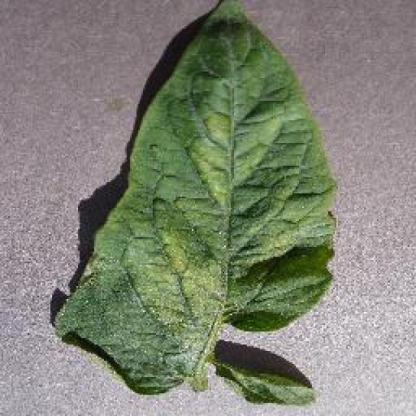Tomato_Spider_Mites: (56, 0, 331, 401)
